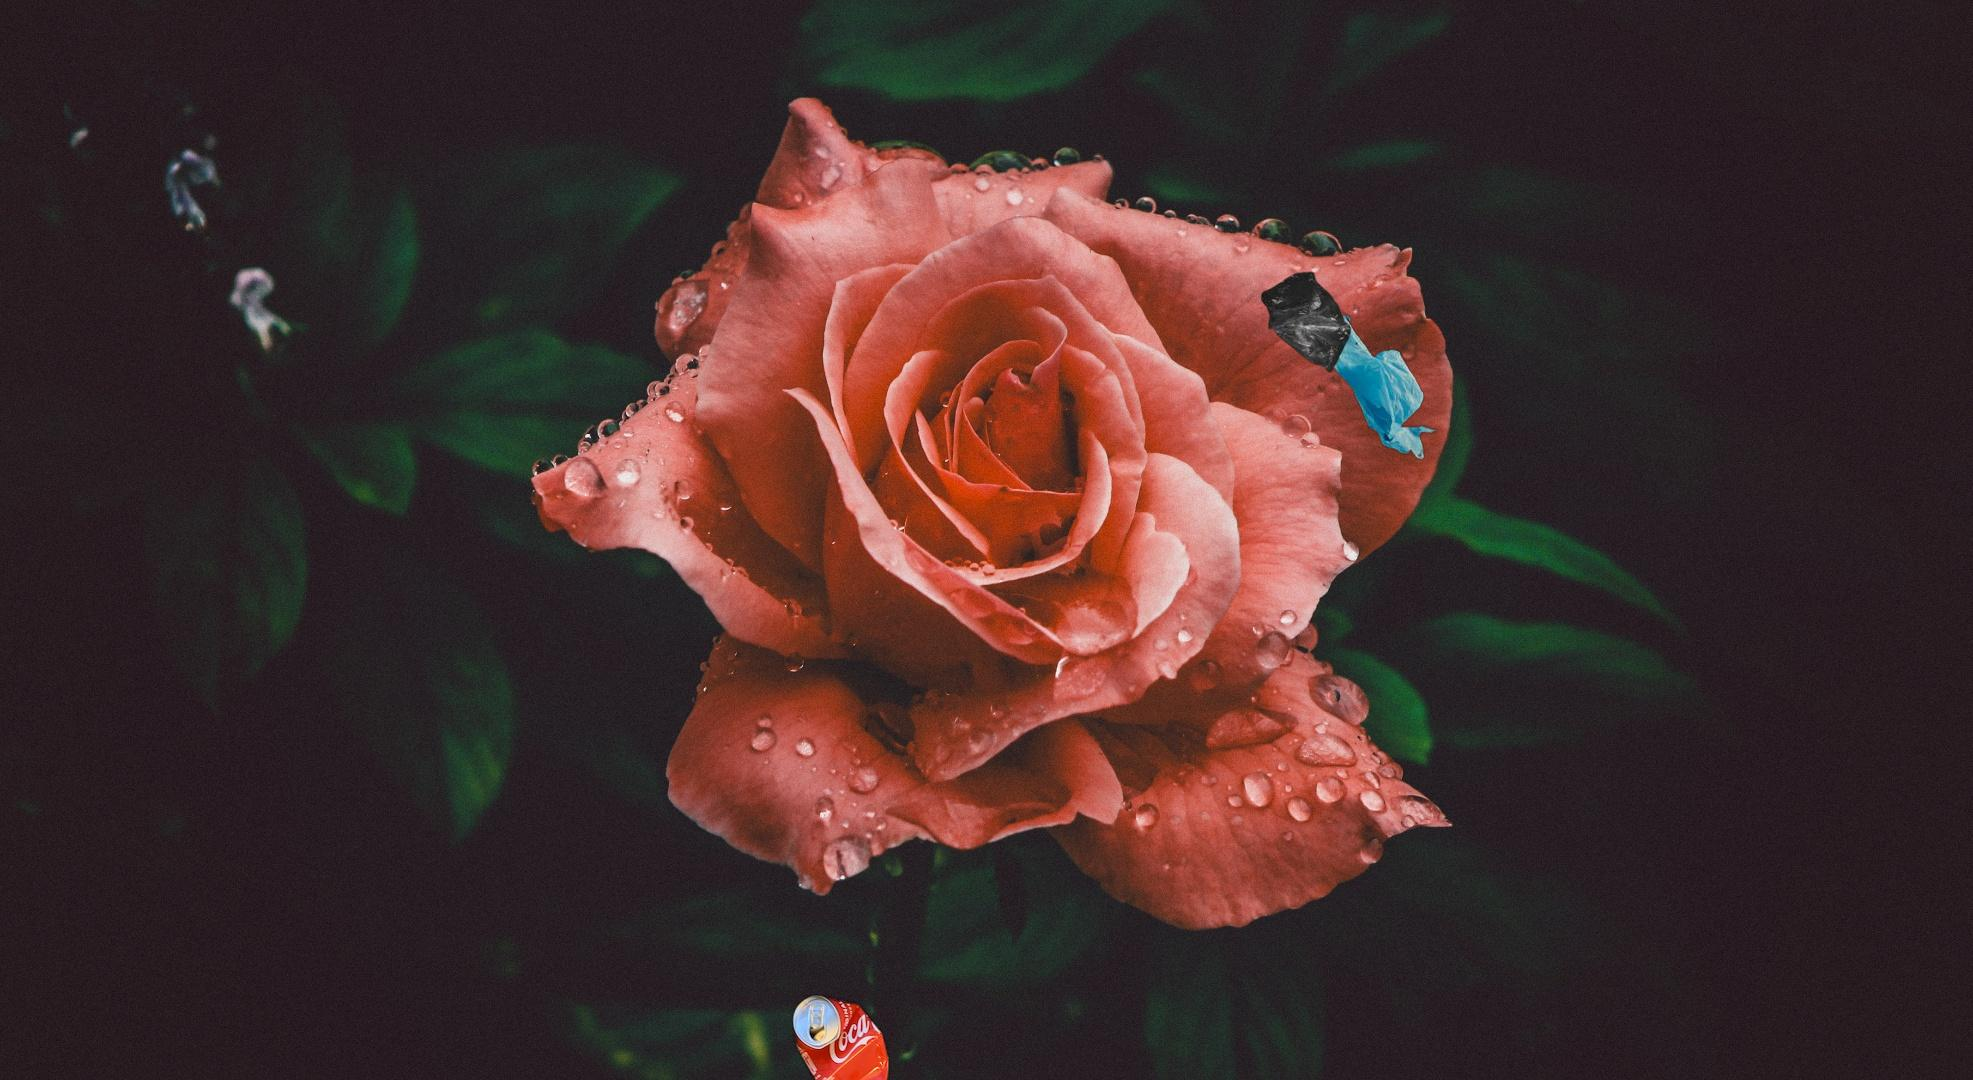metal-cans: (612, 543, 893, 1080)
plastic-bag: (1258, 269, 1443, 462)
